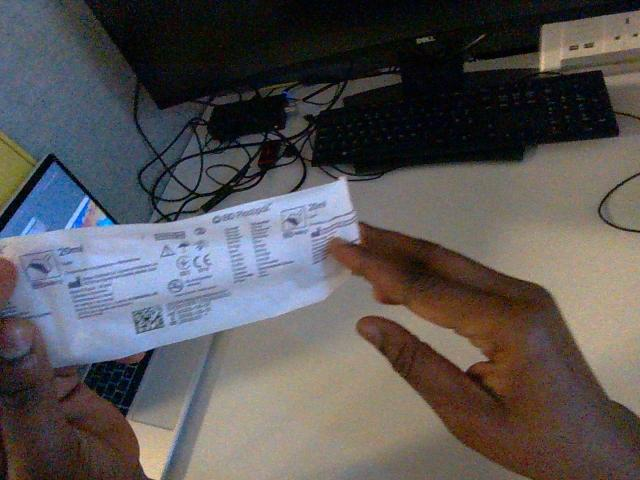syringe: (0, 179, 359, 367)
